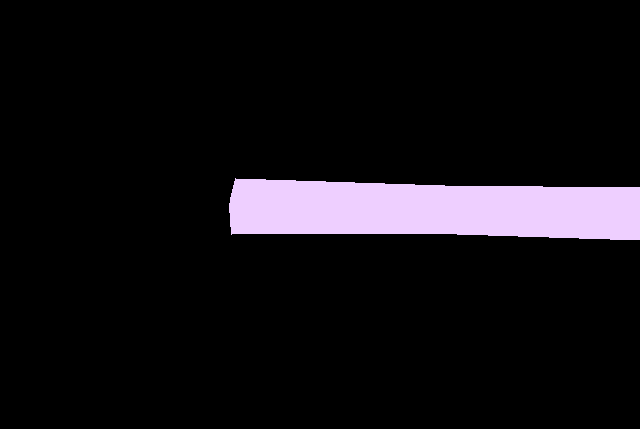Train: (229, 178, 640, 240)
